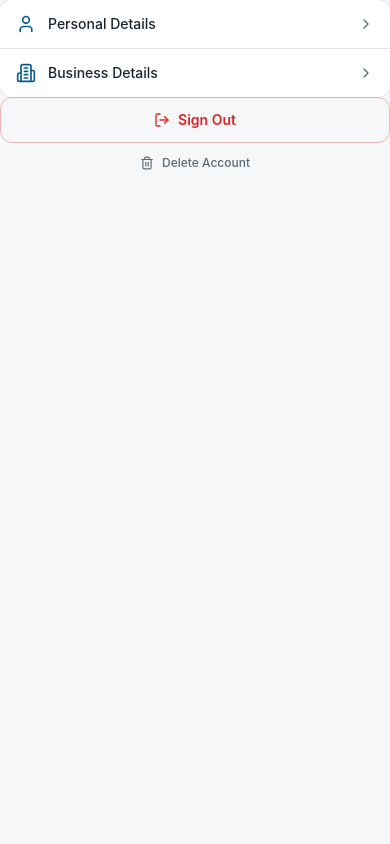
Scenario: ProfileMenu › does not delete the account until the confirmation dialog is confirmed
Click the button "Delete Account" at (195, 163), box [0, 143, 389, 183]
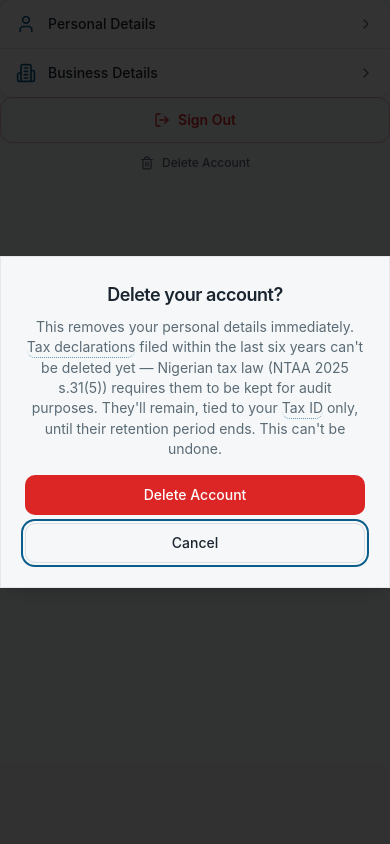
Result: the heading "Delete your account?" is shown at [107, 284, 283, 305]
